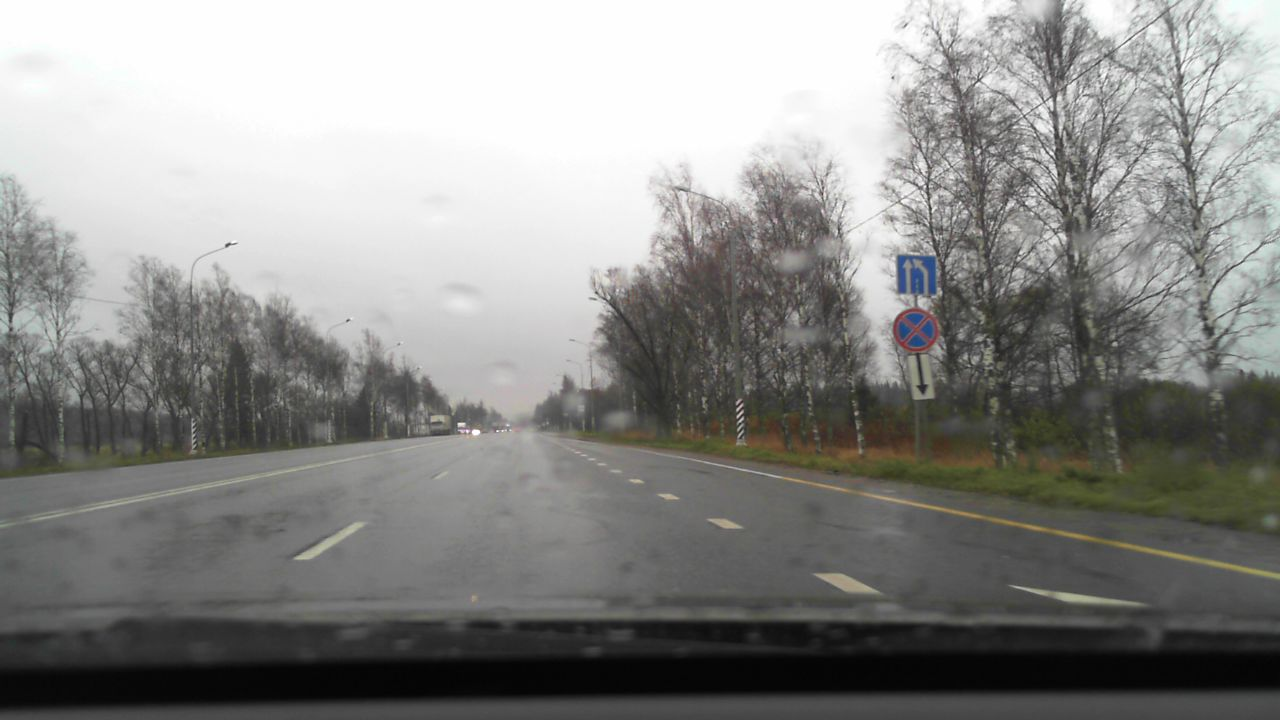No Parking: (892, 308, 938, 352)
